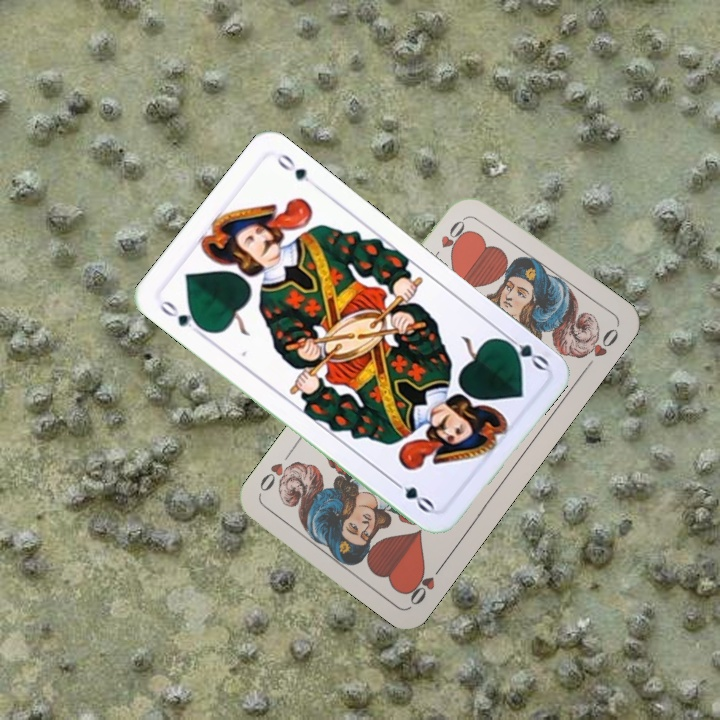GO: (496, 329, 551, 373), (155, 296, 208, 339)
HO: (402, 557, 448, 608), (428, 212, 472, 263)
